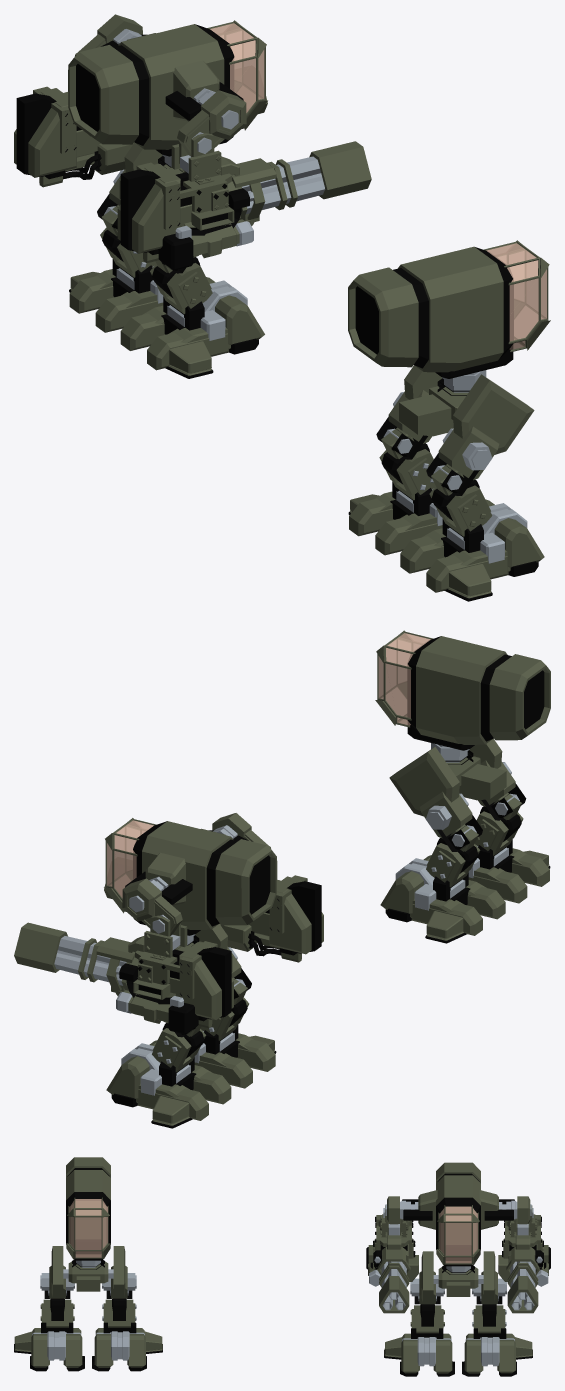
The model's file is Bottts.fbx.
3 views of the same model, one above another, from view 1: azimuth 30°, elevation 25°; view 2: azimuth 150°, elevation 25°; view 3: azimuth 270°, elevation 25° (orthographic). The views are drawn at different scales.
Parts seen in each view (by area): view 1: Cube.006, Cube.001, Cube.301, Cube.483, Cube.587, Cube.578, Cube.498, Cube.593, Cube.455, Cube.594, Cube.515, Cube.583 (+17 smaller); view 2: Cube.006, Cube.001, Cube.301, Cube.578, Cube.492, Cube.483, Cube.593, Cube.498, Cube.453, Cube.499, Cube.017, Cube.488 (+15 smaller); view 3: Cube.006, Cube.001, Cube.301, Cube.492, Cube.587, Cube.425, Cube.461, Cube.412, Cube.454, Cube.455, Cube.453, Cube.399 (+20 smaller).
Boxes of the visible parts, left/top/right/bottom form: Cube.006: left=348, top=240, right=550, bottom=601; Cube.001: left=68, top=24, right=234, bottom=149; Cube.301: left=207, top=20, right=267, bottom=130; Cube.483: left=14, top=88, right=76, bottom=177; Cube.587: left=309, top=141, right=371, bottom=199; Cube.578: left=117, top=164, right=180, bottom=253; Cube.498: left=16, top=93, right=56, bottom=176; Cube.593: left=120, top=169, right=160, bottom=252; Cube.455: left=215, top=295, right=264, bottom=344; Cube.594: left=166, top=167, right=231, bottom=213; Cube.515: left=184, top=221, right=253, bottom=258; Cube.583: left=200, top=90, right=246, bottom=140; Cube.006: left=375, top=630, right=550, bottom=943; Cube.001: left=133, top=821, right=276, bottom=929; Cube.301: left=104, top=818, right=156, bottom=913; Cube.578: left=269, top=876, right=323, bottom=954; Cube.492: left=14, top=922, right=67, bottom=972; Cube.483: left=179, top=942, right=233, bottom=1019; Cube.593: left=287, top=881, right=321, bottom=953; Cube.498: left=197, top=947, right=231, bottom=1019; Cube.453: left=106, top=1056, right=149, bottom=1098; Cube.499: left=135, top=945, right=191, bottom=984; Cube.017: left=116, top=992, right=175, bottom=1023; Cube.488: left=122, top=878, right=161, bottom=921; Cube.006: left=14, top=1157, right=162, bottom=1371; Cube.001: left=436, top=1162, right=480, bottom=1253; Cube.301: left=436, top=1205, right=480, bottom=1264; Cube.492: left=507, top=1276, right=538, bottom=1313; Cube.587: left=379, top=1276, right=409, bottom=1313; Cube.425: left=483, top=1251, right=495, bottom=1302; Cube.461: left=421, top=1251, right=433, bottom=1302; Cube.412: left=433, top=1339, right=452, bottom=1373; Cube.454: left=464, top=1339, right=483, bottom=1373; Cube.455: left=401, top=1339, right=419, bottom=1373; Cube.453: left=497, top=1339, right=515, bottom=1373; Cube.399: left=438, top=1267, right=478, bottom=1288.
Bounding box in the file's own units: 153 × 172 × 474.
